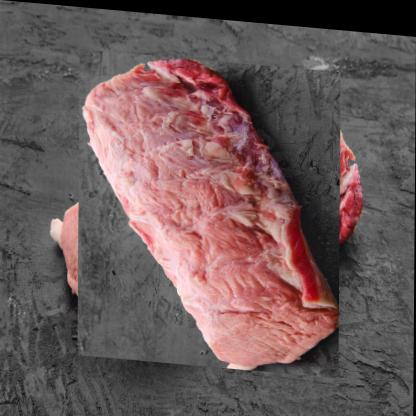raw_meat: (67, 58, 353, 362)
